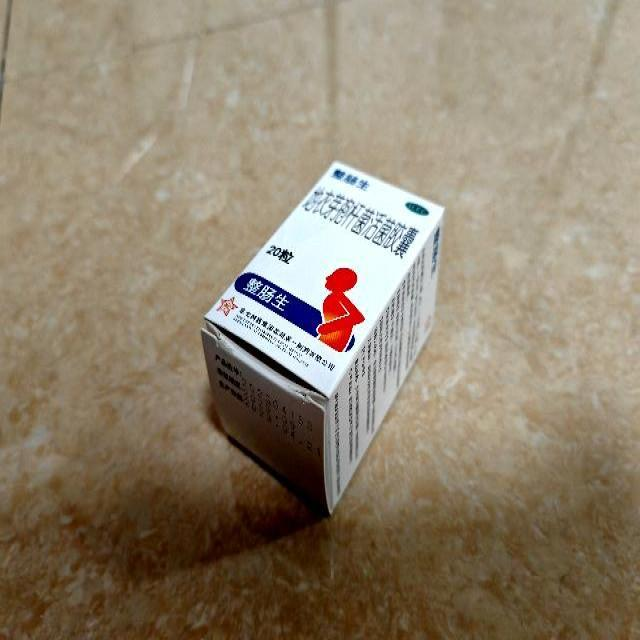box: (200, 158, 446, 518)
